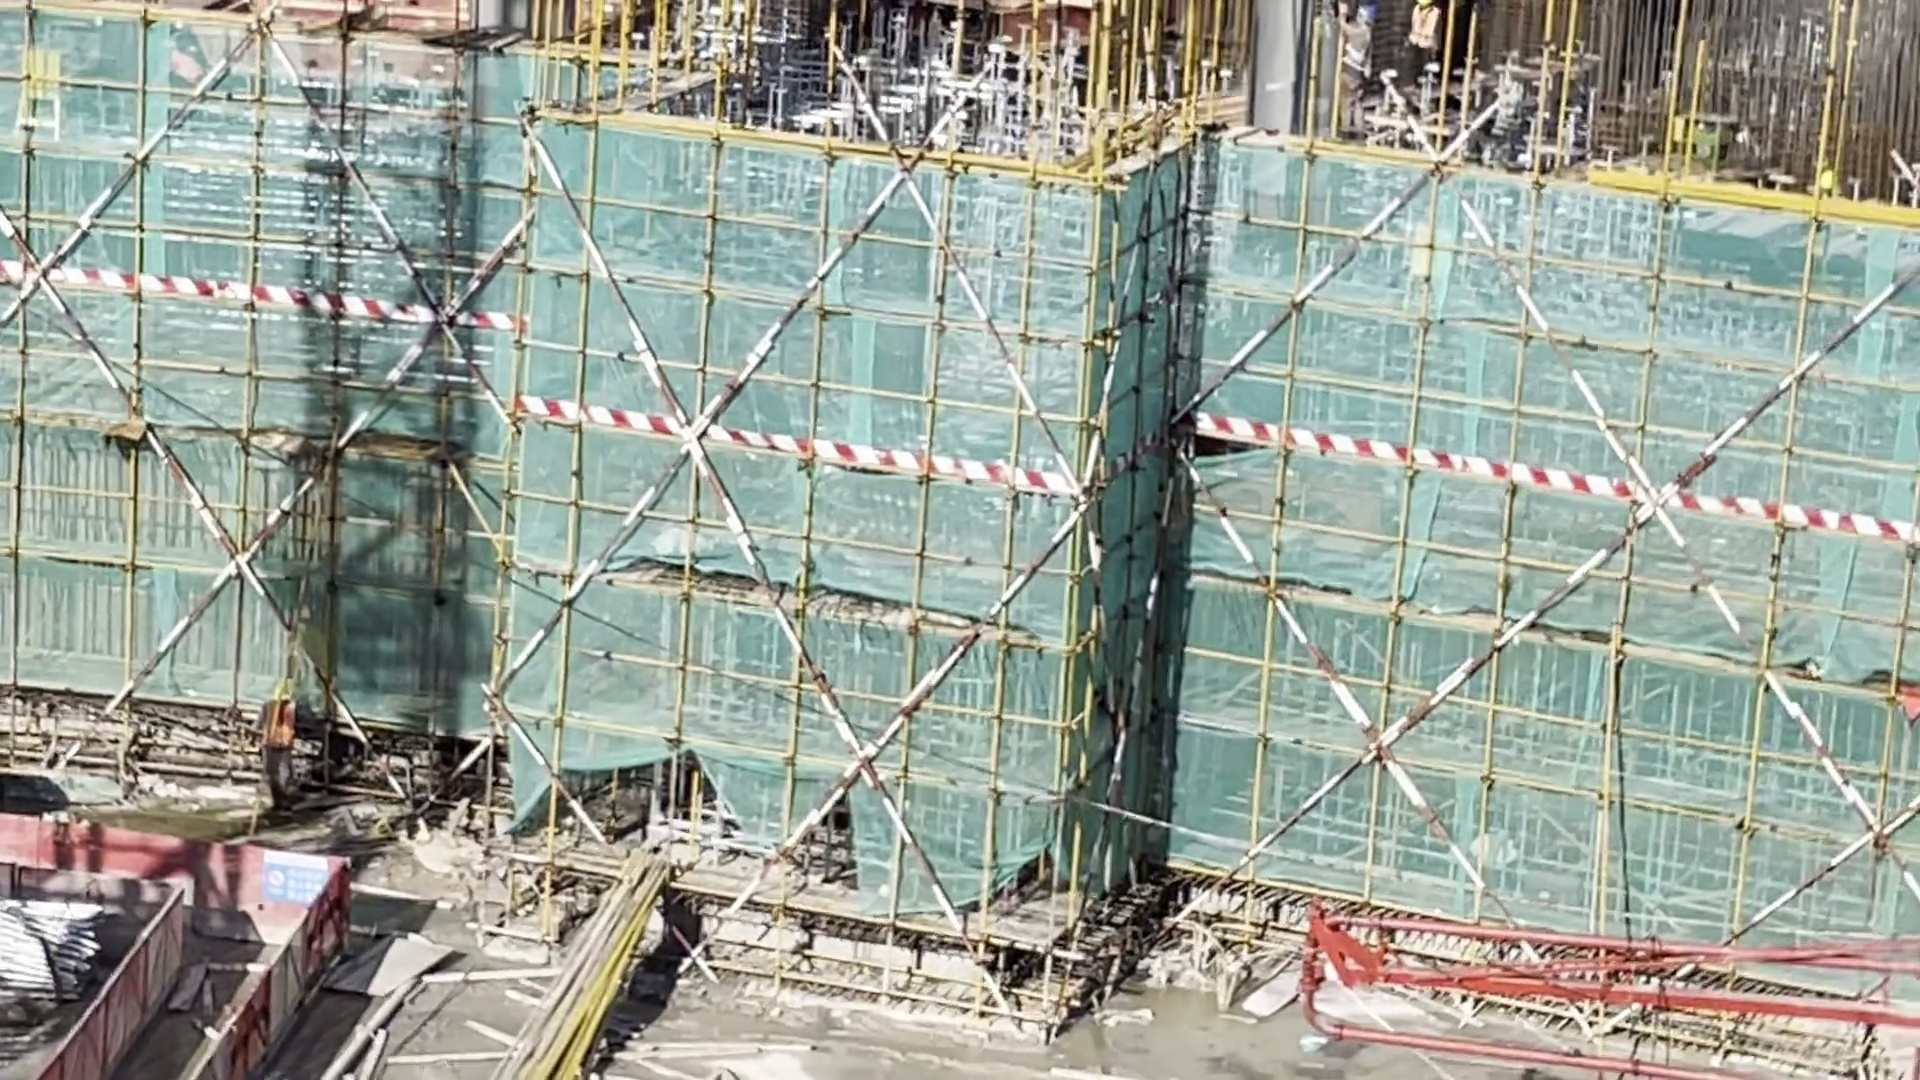helmet: (263, 680, 288, 701)
person: (256, 680, 298, 822), (1339, 1, 1375, 138), (1408, 1, 1442, 80)
vest: (1409, 3, 1439, 53), (266, 700, 296, 751), (1336, 46, 1367, 69)
